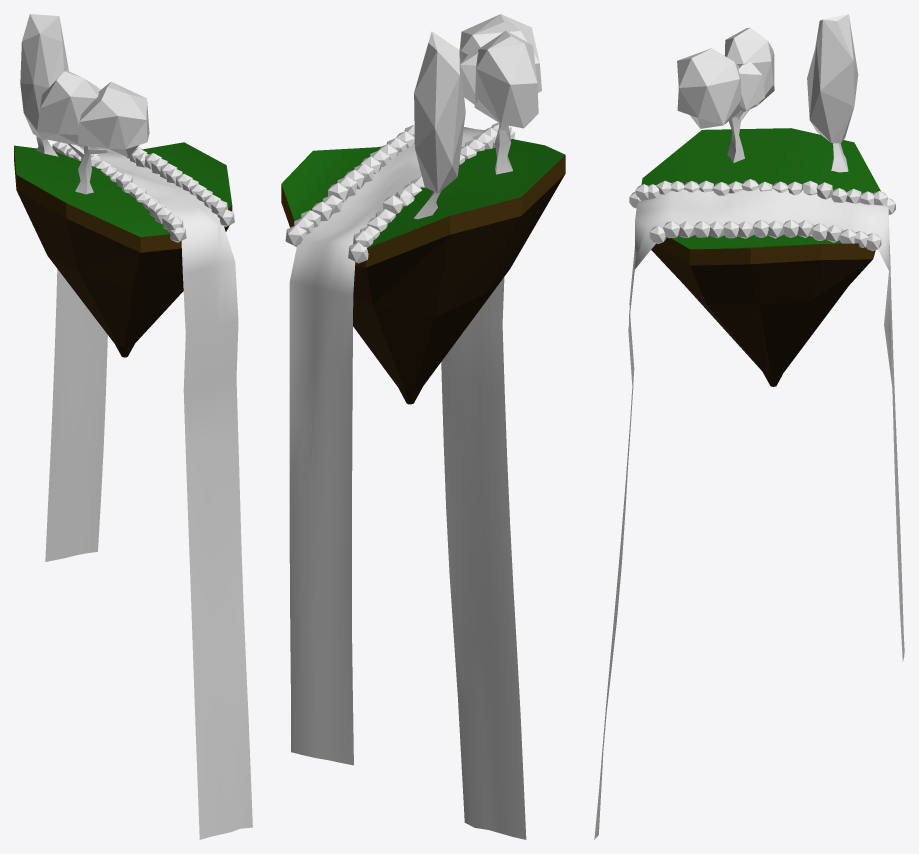
File: Wyspa_1.FBX
The picture shows the model from 3 angles, left to right: view 1: azimuth 30°, elevation 25°; view 2: azimuth 150°, elevation 25°; view 3: azimuth 270°, elevation 25°; orthographic projection. The views are drawn at different scales.
Parts seen in each view (by area): view 1: Plane003, NGon001, GeoSphere003, Drzewko, GeoSphere001, Drzewko wieksze; view 2: Plane003, NGon001, Drzewko, GeoSphere001, GeoSphere003, Drzewko wieksze, GeoSphere002; view 3: NGon001, Plane003, Drzewko, GeoSphere003, GeoSphere001, GeoSphere002, Drzewko wieksze.
Boxes of the visible parts, box(x1,y1,x2,y2) form: Plane003: box(45, 145, 252, 839); NGon001: box(14, 142, 232, 357); GeoSphere003: box(78, 81, 149, 157); Drzewko: box(20, 14, 68, 139); GeoSphere001: box(37, 70, 98, 146); Drzewko wieksze: box(67, 112, 108, 194); Plane003: box(289, 127, 526, 839); NGon001: box(281, 139, 565, 404); Drzewko: box(414, 31, 465, 193); GeoSphere001: box(474, 31, 538, 128); GeoSphere003: box(459, 14, 541, 92); Drzewko wieksze: box(495, 123, 512, 174); GeoSphere002: box(461, 49, 478, 106); NGon001: box(641, 128, 880, 386); Plane003: box(594, 187, 904, 839); Drzewko: box(807, 14, 858, 143); GeoSphere003: box(677, 48, 742, 128); GeoSphere001: box(724, 27, 774, 112); GeoSphere002: box(738, 62, 765, 110); Drzewko wieksze: box(727, 110, 748, 162).
Bounding box in the file's own units: 168 × 634 × 229.
